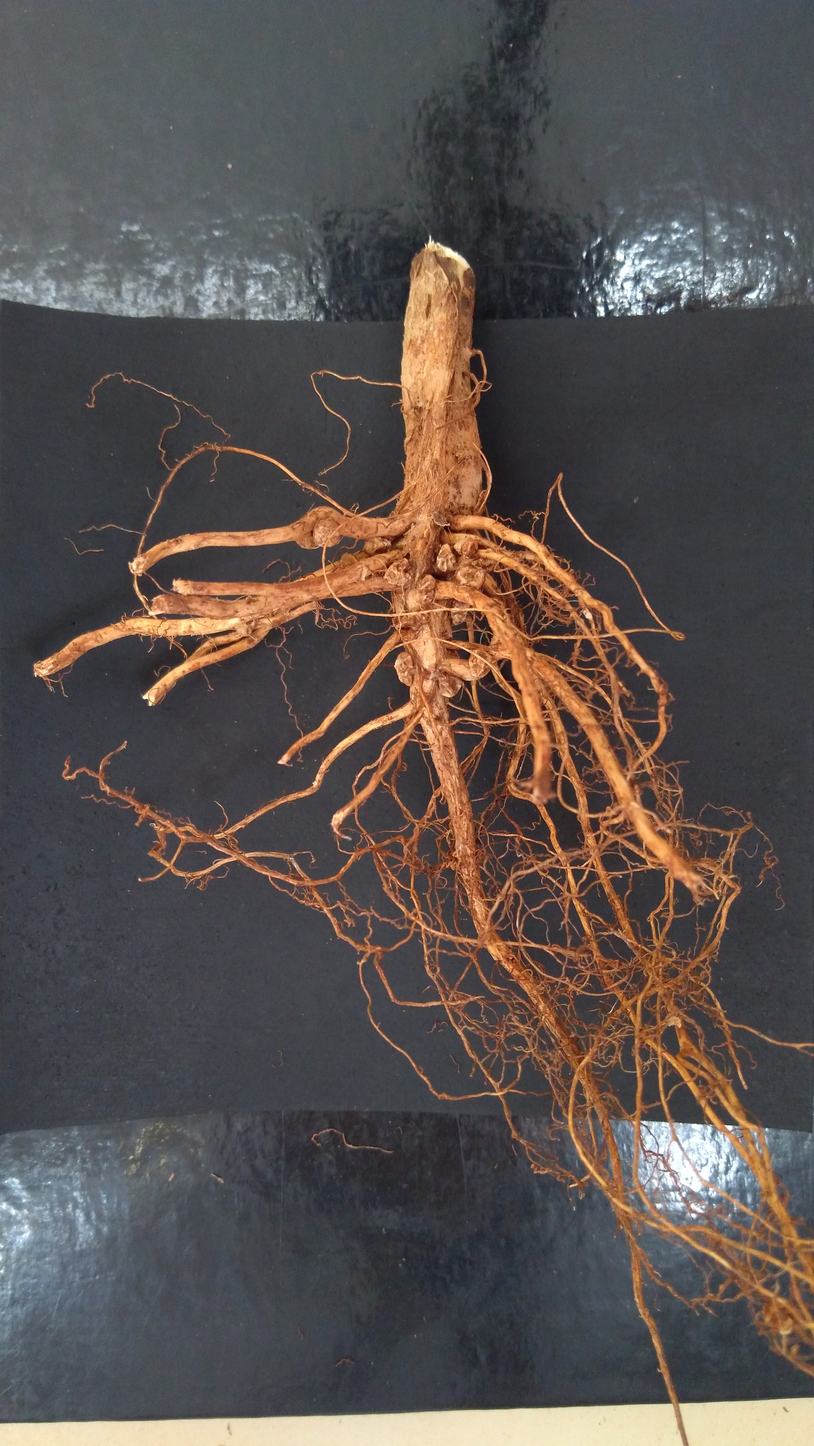nodule: (403, 571, 440, 613), (388, 649, 421, 689), (309, 514, 344, 549), (430, 669, 467, 701), (381, 555, 414, 589), (465, 647, 498, 681), (448, 590, 474, 629), (454, 564, 489, 592), (360, 532, 394, 556), (436, 539, 458, 574), (451, 534, 481, 559), (761, 1296, 784, 1321), (292, 533, 319, 552), (337, 549, 360, 571), (429, 507, 452, 528), (422, 671, 439, 693), (778, 1313, 793, 1337)
